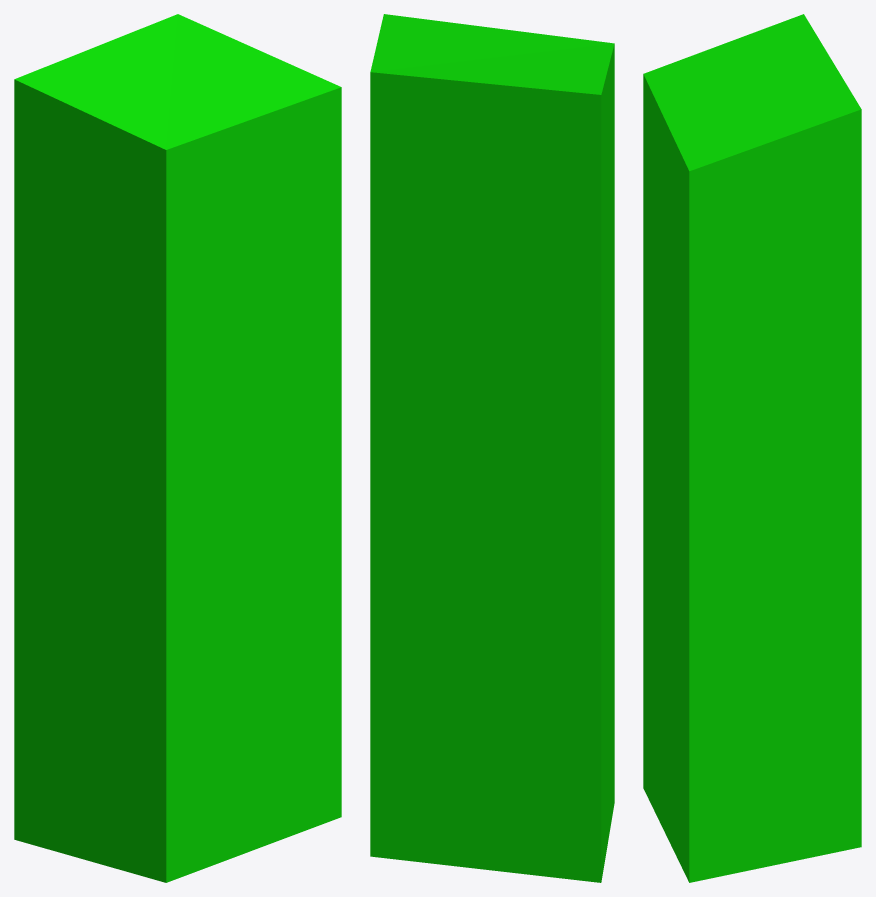
3 views of the same model, side by side, from view 1: azimuth 30°, elevation 25°; view 2: azimuth 150°, elevation 25°; view 3: azimuth 270°, elevation 25° (orthographic). The views are drawn at different scales.
Visible parts, largest first — view 1: Plane.012; view 2: Plane.012; view 3: Plane.012.
Boxes of the visible parts, x1=… form: Plane.012: x1=14, y1=14, x2=341, y2=882; Plane.012: x1=370, y1=14, x2=614, y2=882; Plane.012: x1=643, y1=14, x2=861, y2=882.
Bounding box in the file's own units: 416 × 1126 × 300.
